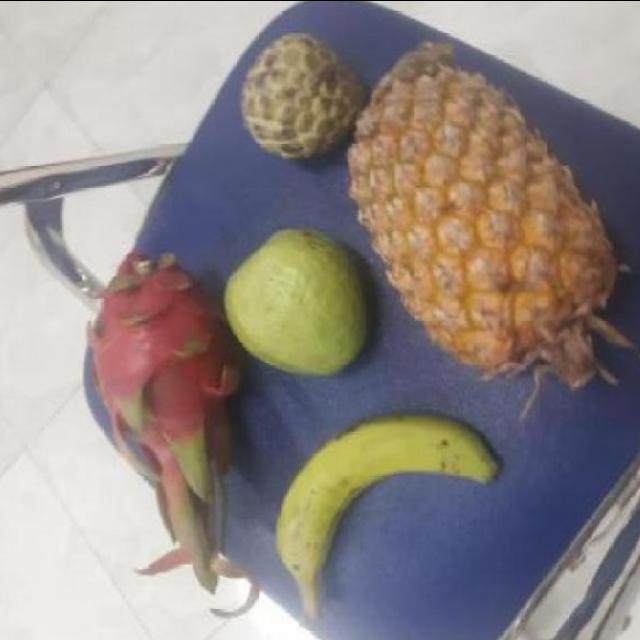banana: (280, 418, 492, 598)
dragon fruit: (78, 252, 235, 498)
guava: (222, 224, 370, 382)
pineapple: (356, 59, 606, 388)
sugar apple: (242, 31, 368, 164)
